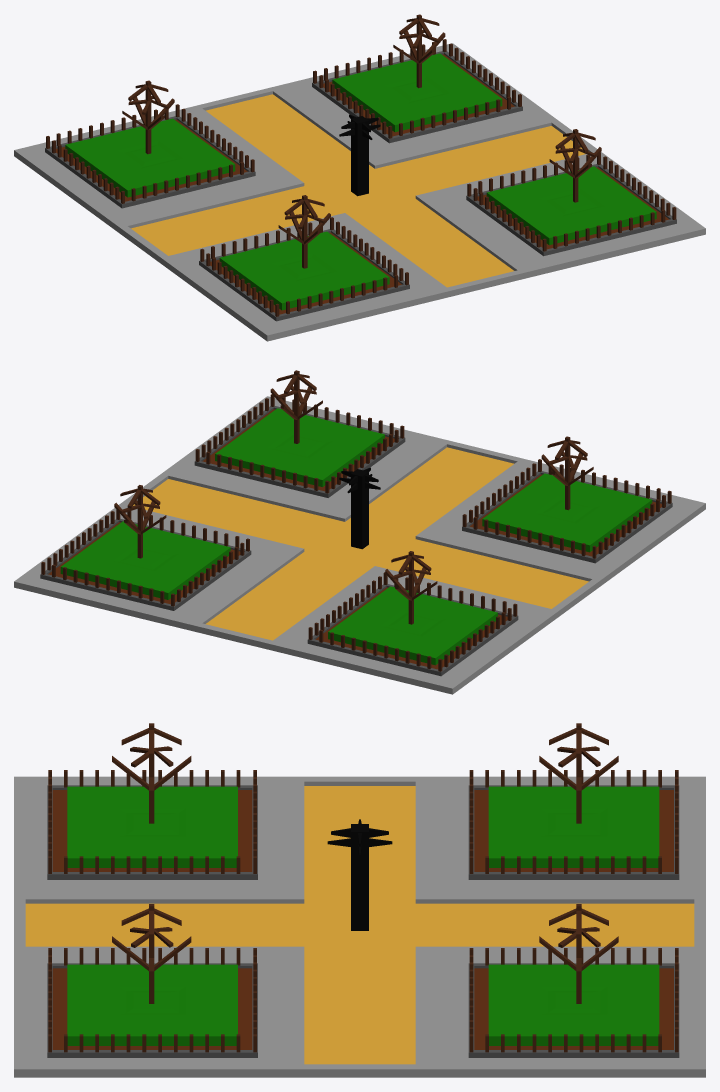
Rendered from Jardin1.glb.
3 views of the same model, one above another, from view 1: azimuth 30°, elevation 25°; view 2: azimuth 150°, elevation 25°; view 3: azimuth 270°, elevation 25° (orthographic). The views are drawn at different scales.
Visible parts, largest first — view 1: Jardin1; view 2: Jardin1; view 3: Jardin1.
Part boxes in pixels (box(x1,y1,x2,y2)): Jardin1: box(14, 14, 705, 341); Jardin1: box(14, 370, 705, 694); Jardin1: box(14, 723, 705, 1077).
Bounding box in the file's own units: 25 × 4.75 × 25.
